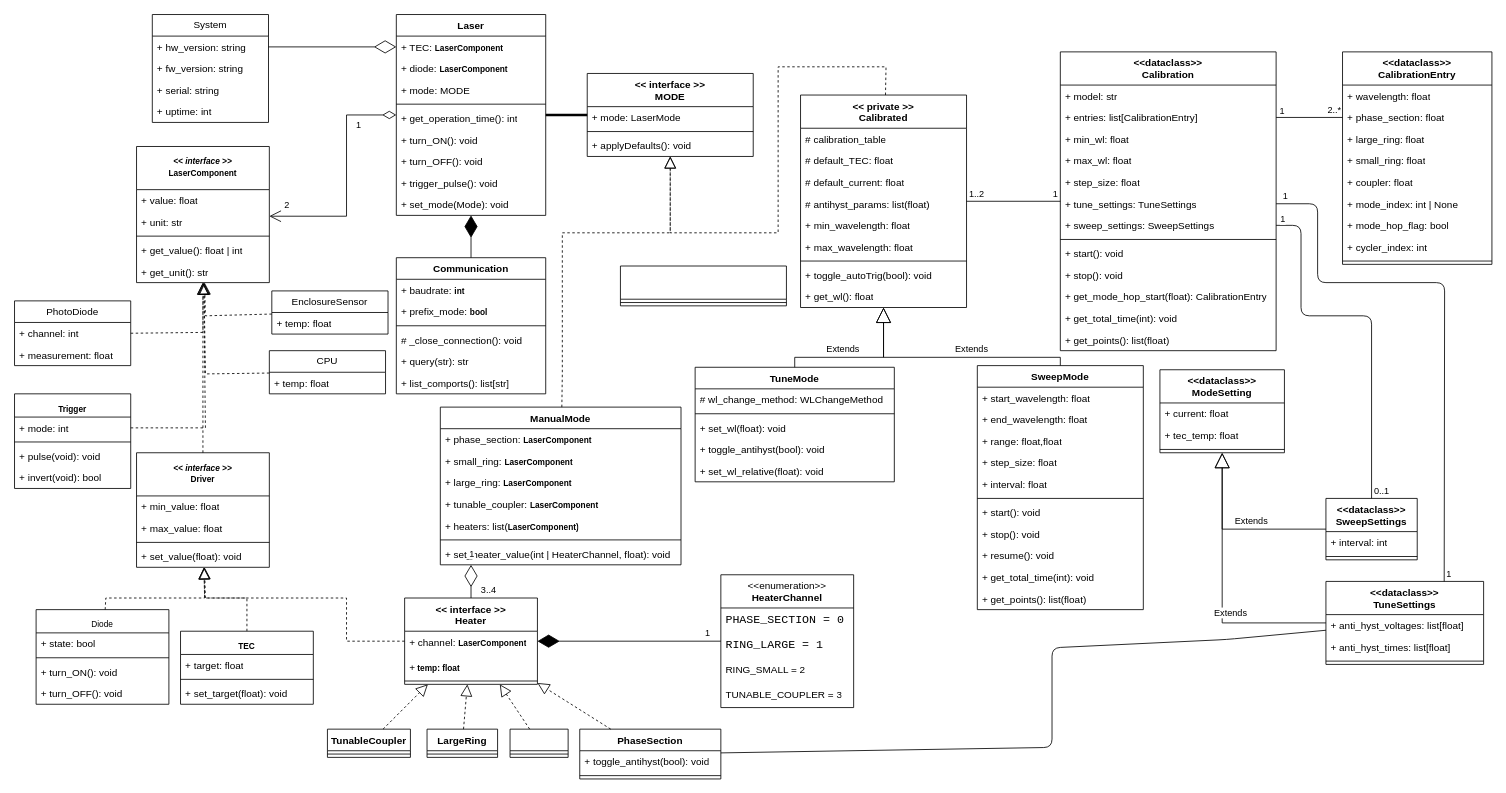
The diagram is 1506 pixels wide and 793 high, and some of its shapes have lost their labels. The shapes that lost their labels are listed below. From the top down, each one's centre as x and y in pixels, then its label:
At [703,285]: "<< Enum >> LaserMode".
At [538,742]: "SmallRing".
